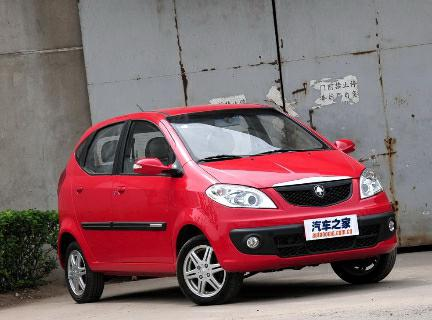长安-奔奔LOVE: (52, 100, 406, 302)
